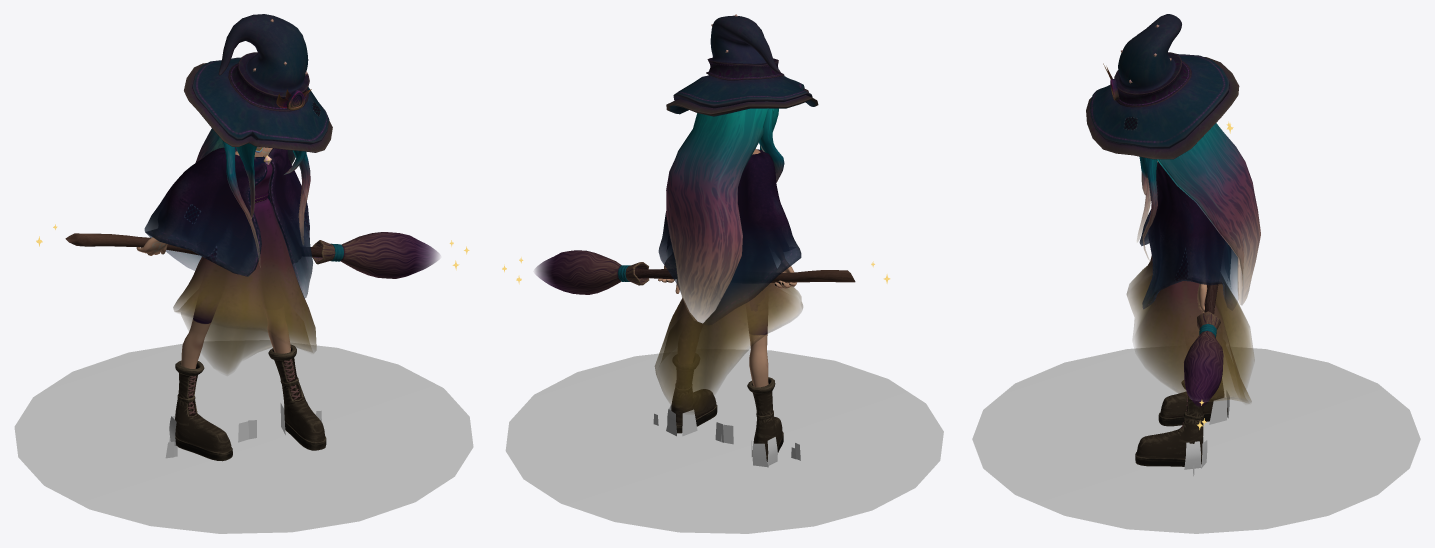
3 renders of one model, left to right at view 1: azimuth 30°, elevation 25°; view 2: azimuth 150°, elevation 25°; view 3: azimuth 270°, elevation 25°, orthographic. The views are drawn at different scales.
Visible parts, largest first — view 1: polySurface10, Hat, Cape, Dress_L, Body, Broom_LP1, HairLP; view 2: polySurface10, HairLP, Dress_L, Cape, Hat, Body, Broom_LP1; view 3: polySurface10, Hat, Dress_L, HairLP, Cape, Body, Broom_LP1.
Part boxes in pixels (x1,y1,x2,y2): polySurface10: (14, 340, 473, 533); Hat: (184, 14, 332, 152); Cape: (144, 147, 313, 298); Dress_L: (173, 163, 316, 374); Body: (136, 146, 326, 461); Broom_LP1: (65, 232, 439, 278); HairLP: (195, 128, 310, 266); polySurface10: (505, 349, 943, 533); HairLP: (666, 108, 784, 322); Dress_L: (654, 265, 802, 413); Cape: (658, 149, 801, 324); Hat: (666, 14, 818, 116); Body: (658, 149, 796, 461); Broom_LP1: (535, 250, 855, 294); polySurface10: (972, 347, 1420, 533); Hat: (1086, 14, 1239, 159); Dress_L: (1126, 255, 1254, 403); HairLP: (1137, 123, 1260, 305); Cape: (1139, 162, 1238, 310); Body: (1135, 281, 1227, 466); Broom_LP1: (1184, 276, 1223, 407).
Bounding box in the file's own units: 585 × 567 × 545.
